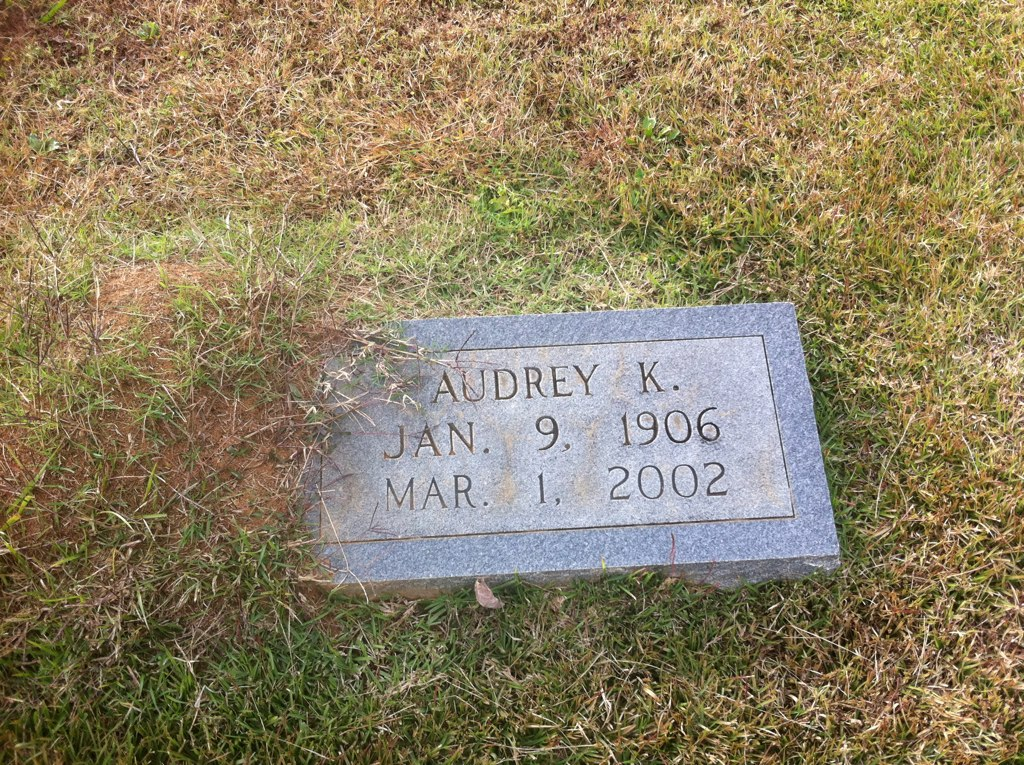flat: (293, 301, 837, 588)
